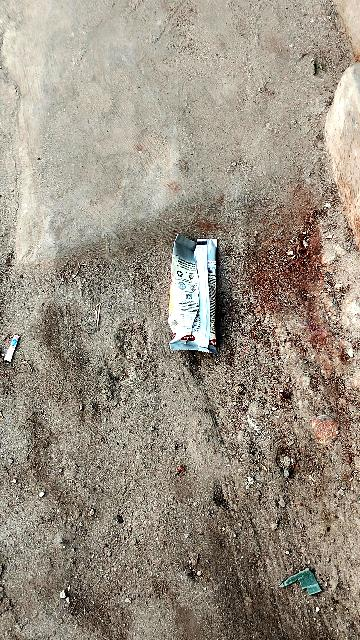packet: (156, 229, 222, 368)
